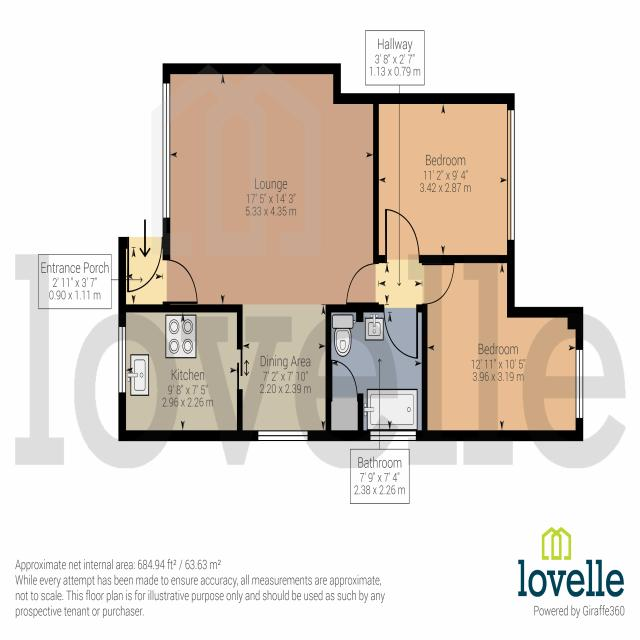DOOR: (126, 236, 163, 294), (384, 207, 421, 262), (383, 304, 419, 360), (162, 258, 198, 305), (345, 261, 379, 306), (421, 262, 455, 306)
ROOM: (162, 63, 379, 442), (421, 255, 584, 441), (373, 93, 515, 264), (118, 304, 243, 442)
WINDOW: (162, 82, 171, 219), (506, 108, 515, 242), (117, 325, 127, 394), (257, 429, 309, 442), (575, 348, 584, 420), (369, 430, 417, 442)
